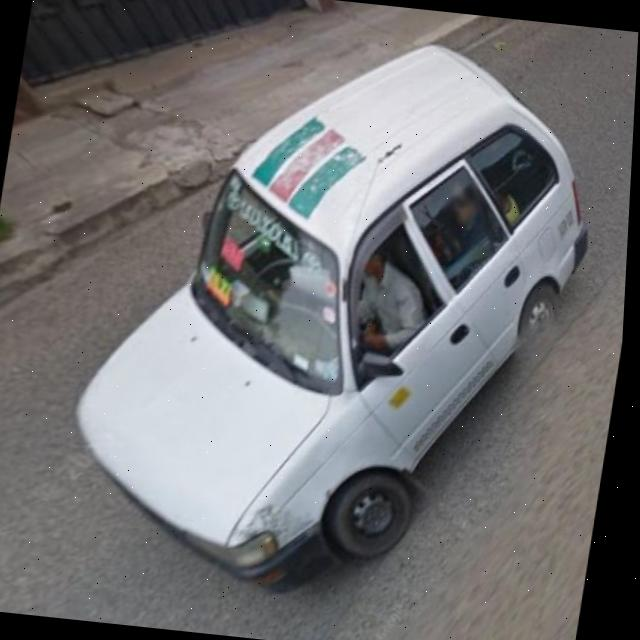vehicle: (61, 21, 623, 614)
